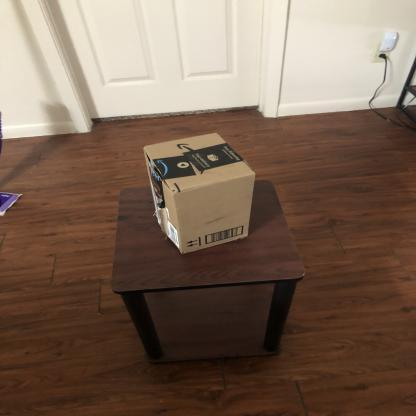package: (138, 132, 262, 257)
